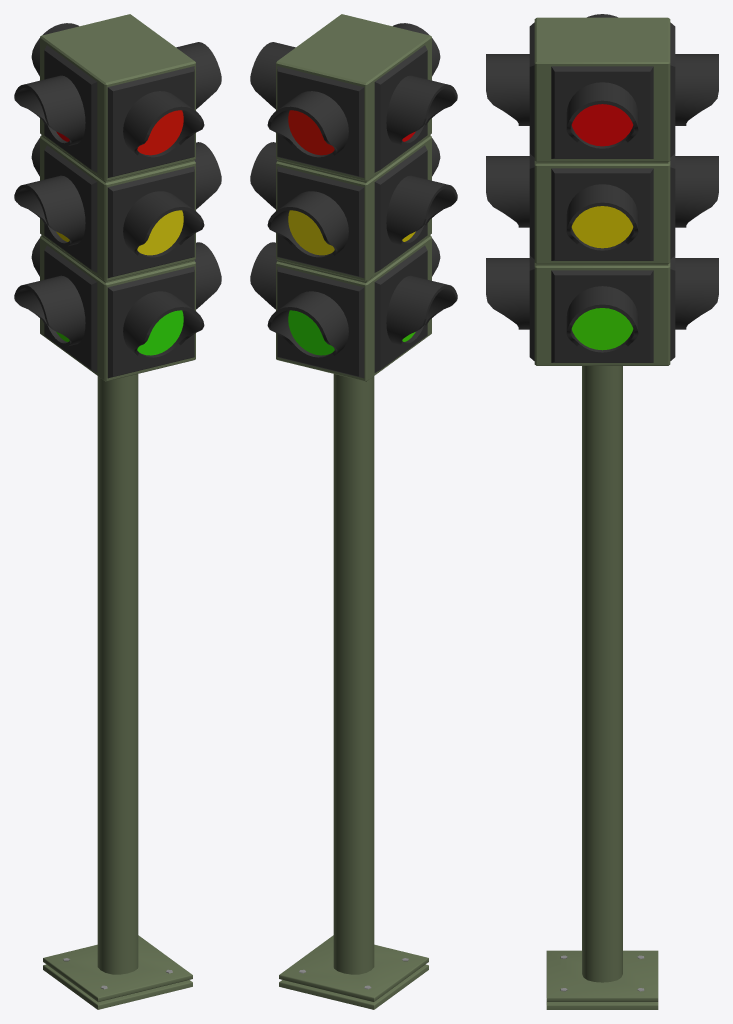
The model's file is traffic.glb.
3 renders of one model, left to right at view 1: azimuth 30°, elevation 25°; view 2: azimuth 150°, elevation 25°; view 3: azimuth 270°, elevation 25°, orthographic.
Parts seen in each view (by area): view 1: Tiang_Lampu, Lampu_1, Lampu_2; view 2: Tiang_Lampu, Lampu_1, Lampu_2; view 3: Tiang_Lampu, Lampu_2, Lampu_1.
Boxes of the visible parts, box(x1,y1,x2,y2) form: Tiang_Lampu: box(40, 14, 195, 1009); Lampu_1: box(14, 42, 221, 346); Lampu_2: box(31, 23, 204, 360); Tiang_Lampu: box(276, 14, 431, 1009); Lampu_1: box(250, 42, 457, 346); Lampu_2: box(267, 23, 440, 360); Tiang_Lampu: box(529, 17, 675, 1009); Lampu_2: box(486, 54, 718, 329); Lampu_1: box(566, 14, 638, 355).
Bounding box in the file's own units: 138 × 701 × 156.
